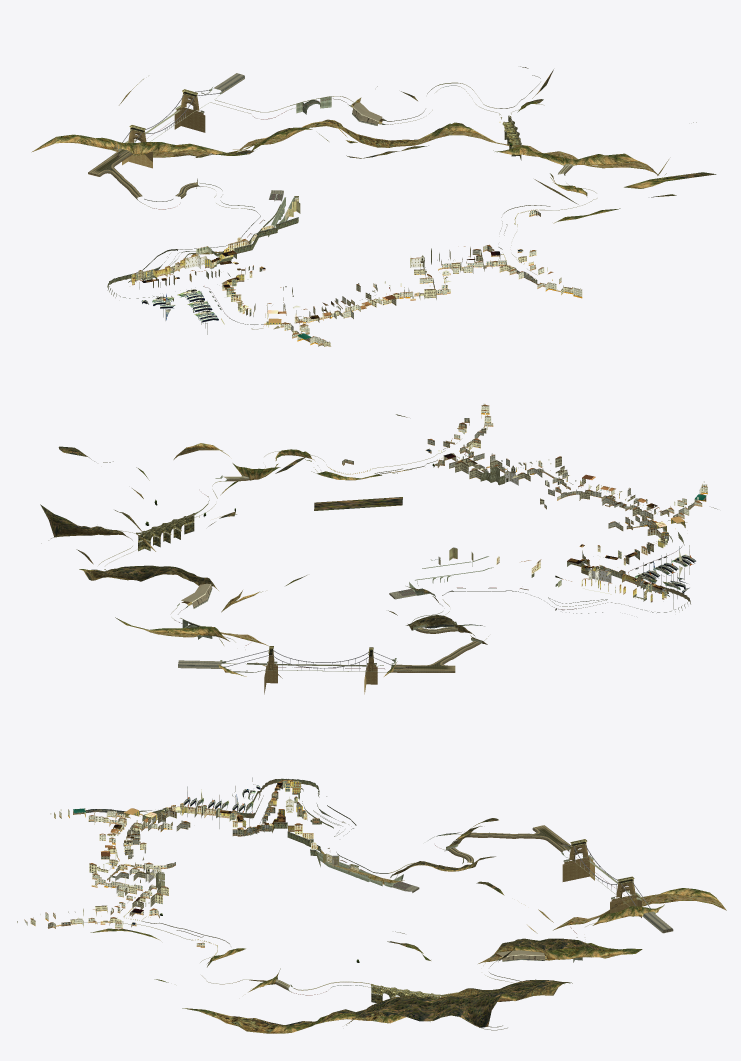
The model's file is track-B1_C1_V2.glb.
3 renders of one model, top to bottom at view 1: azimuth 30°, elevation 25°; view 2: azimuth 150°, elevation 25°; view 3: azimuth 270°, elevation 25°, orthographic.
Parts seen in each view (by area): view 1: B1_C1_V2; view 2: B1_C1_V2; view 3: B1_C1_V2.
Boxes of the visible parts, x1,y1,x2,y2 form: B1_C1_V2: (31, 66, 716, 346); B1_C1_V2: (40, 403, 717, 694); B1_C1_V2: (17, 777, 726, 1033).
Size of the model in its own units: 1813 by 258 by 1860.
Materials: 97 (96 with a texture image).
